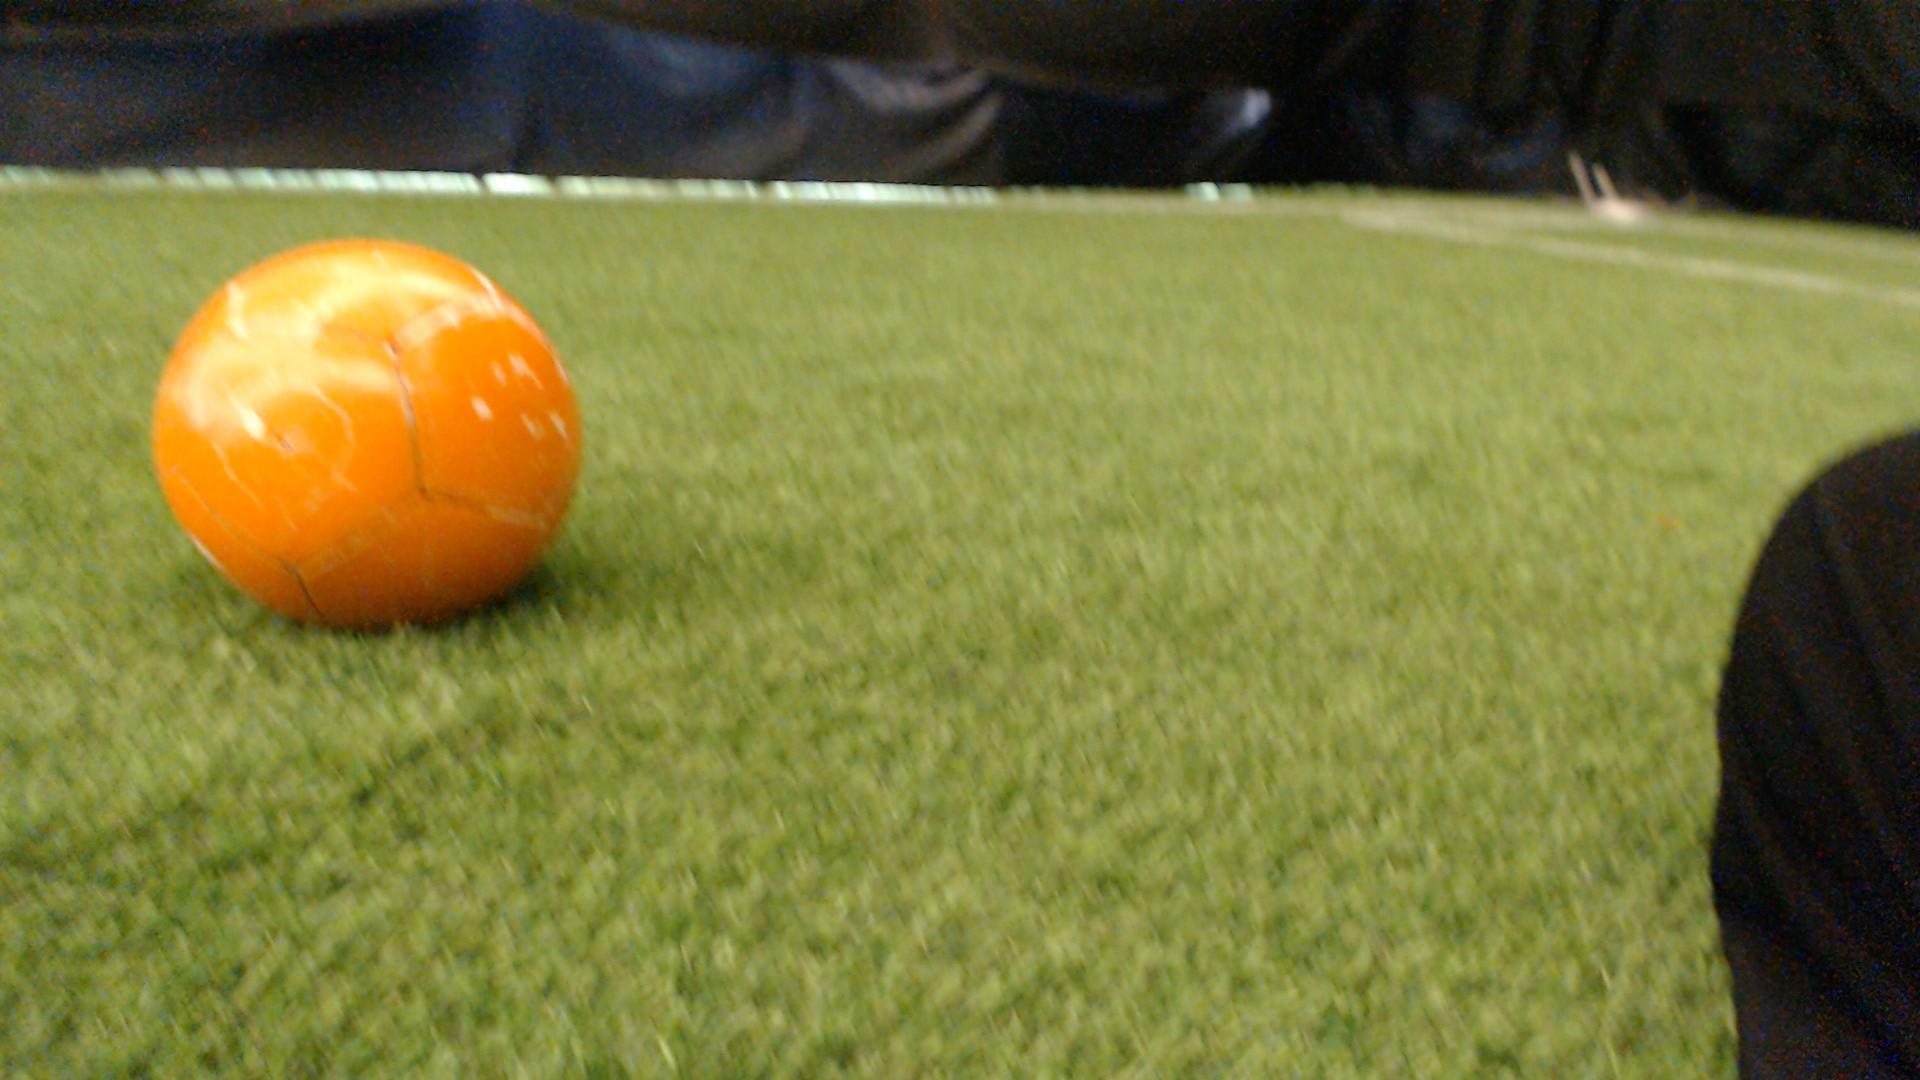bola: (141, 243, 592, 620)
